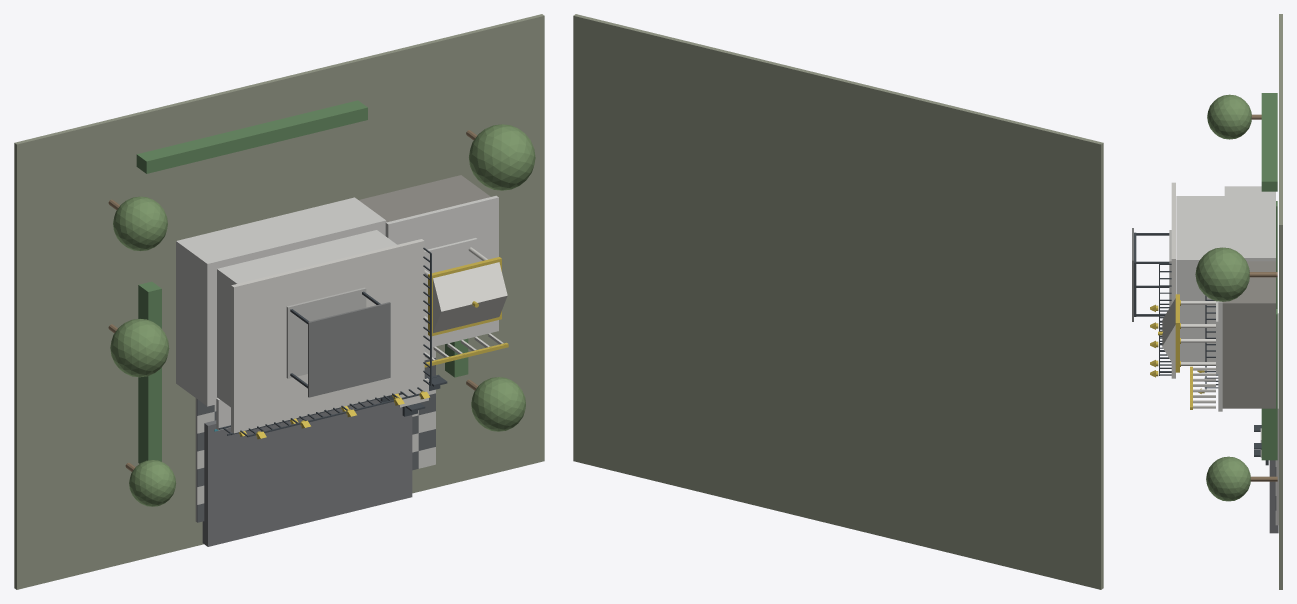
Rendered from villa.glb.
3 renders of one model, left to right at view 1: azimuth 30°, elevation 25°; view 2: azimuth 150°, elevation 25°; view 3: azimuth 270°, elevation 25°, orthographic. The views are drawn at different scales.
Visible parts, largest first — view 1: site_ground_approx, pool_outer_coping, main_roof_slab, main_villa_ground_floor, pergola_roof_sheet, hedge_-2_10, dining_wing_upper_slab, main_villa_upper_floor, chhatri_domed_roof, tree_crown_3, stone_clad_dining_wing, hedge_-8_-2 (+7 smaller); view 2: site_ground_approx; view 3: stone_clad_dining_wing, main_villa_upper_floor, main_villa_ground_floor, tree_crown_3, site_ground_approx, hedge_-2_10, tree_crown_4, tree_crown_2, hedge_10_-1, chhatri_domed_roof, main_roof_slab, dining_wing_upper_slab (+5 smaller).
Boxes of the visible parts, left/top/right/bottom form: site_ground_approx: left=14, top=14, right=544, bottom=589; pool_outer_coping: left=202, top=398, right=412, bottom=546; main_roof_slab: left=231, top=239, right=424, bottom=433; main_villa_ground_floor: left=176, top=197, right=386, bottom=406; pergola_roof_sheet: left=308, top=302, right=390, bottom=397; hedge_-2_10: left=136, top=100, right=367, bottom=173; dining_wing_upper_slab: left=385, top=195, right=498, bottom=348; main_villa_upper_floor: left=217, top=230, right=396, bottom=407; chhatri_domed_roof: left=433, top=262, right=507, bottom=332; tree_crown_3: left=469, top=124, right=535, bottom=190; stone_clad_dining_wing: left=359, top=175, right=490, bottom=222; hedge_-8_-2: left=138, top=281, right=161, bottom=463; site_ground_approx: left=573, top=14, right=1103, bottom=589; stone_clad_dining_wing: left=1222, top=261, right=1275, bottom=408; main_villa_upper_floor: left=1176, top=196, right=1224, bottom=361; main_villa_ground_floor: left=1224, top=186, right=1275, bottom=261; tree_crown_3: left=1195, top=247, right=1249, bottom=301; site_ground_approx: left=1279, top=14, right=1282, bottom=589; hedge_-2_10: left=1261, top=93, right=1277, bottom=191; tree_crown_4: left=1207, top=94, right=1251, bottom=139; tree_crown_2: left=1206, top=456, right=1250, bottom=501; hedge_10_-1: left=1261, top=309, right=1277, bottom=460; chhatri_domed_roof: left=1162, top=298, right=1175, bottom=368; main_roof_slab: left=1171, top=182, right=1175, bottom=378; dining_wing_upper_slab: left=1218, top=301, right=1222, bottom=411.
Size of the model in its own units: 31 by 25 by 9.36.
